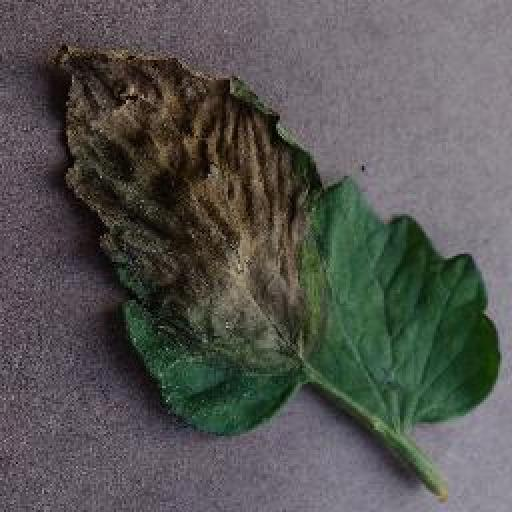disease_tomato: (56, 42, 502, 436)
